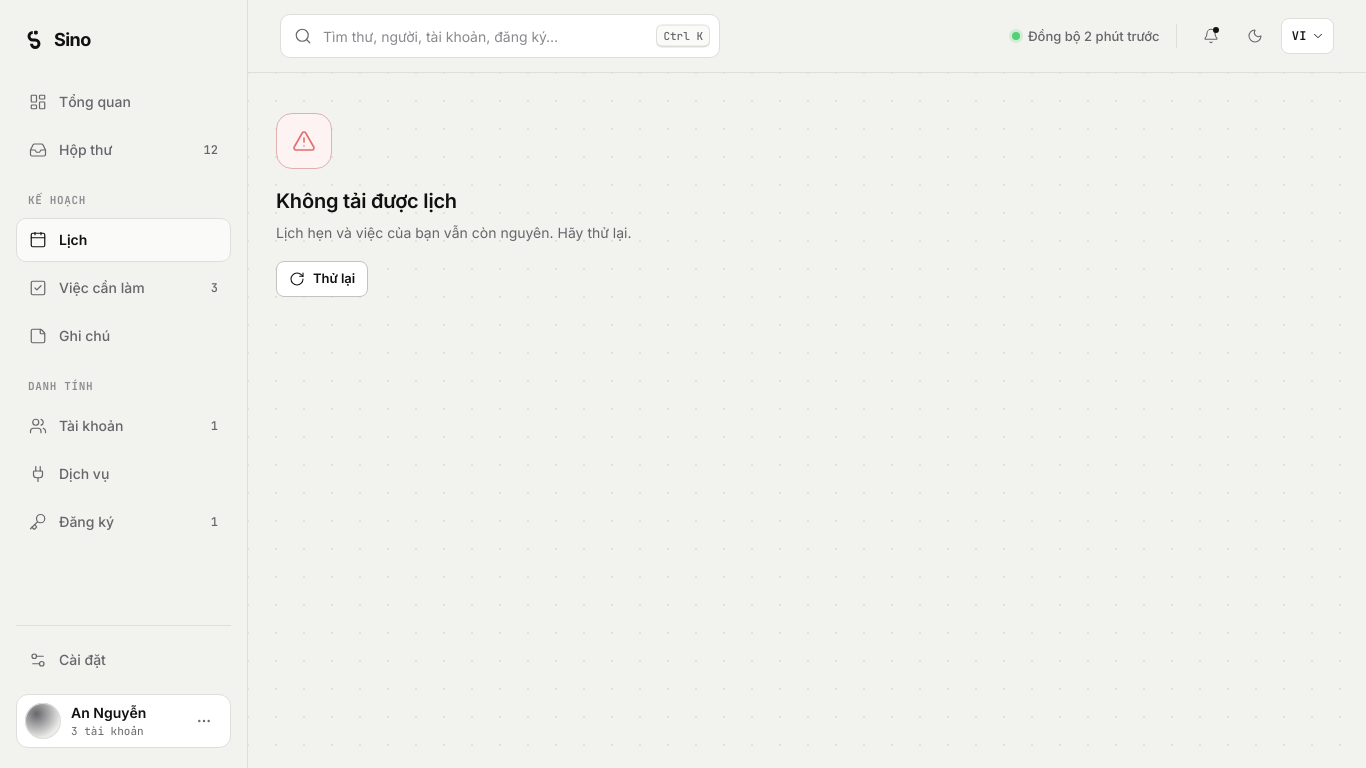
Test: states of the Lịch screen › says so when the calendar cannot load, and loads it on "Thử lại"
The image size is (1366, 768).
Expected: the heading "Không tải được lịch" is shown, [276, 189, 457, 213]
Click the button "Thử lại".
click(322, 279)  # box [276, 261, 368, 297]
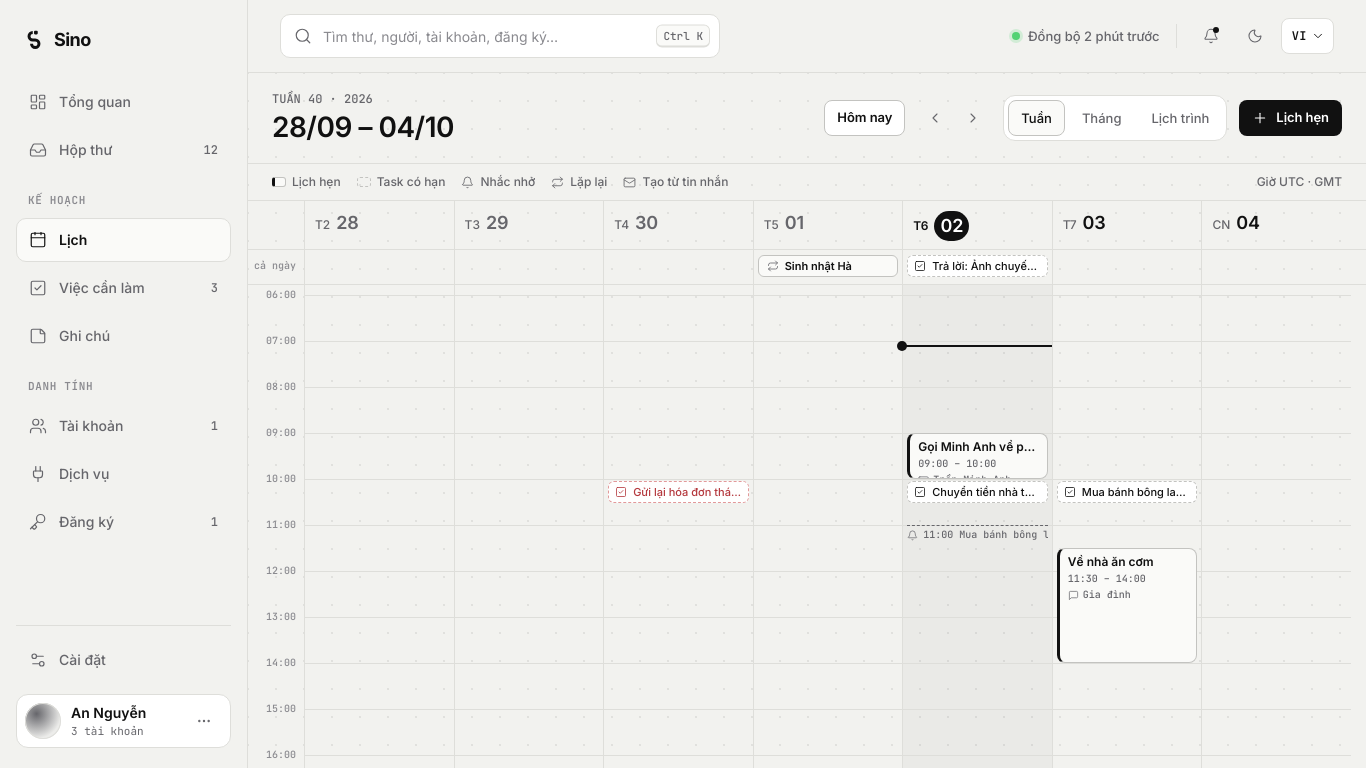
Expected: the element named "Tuần " is shown
